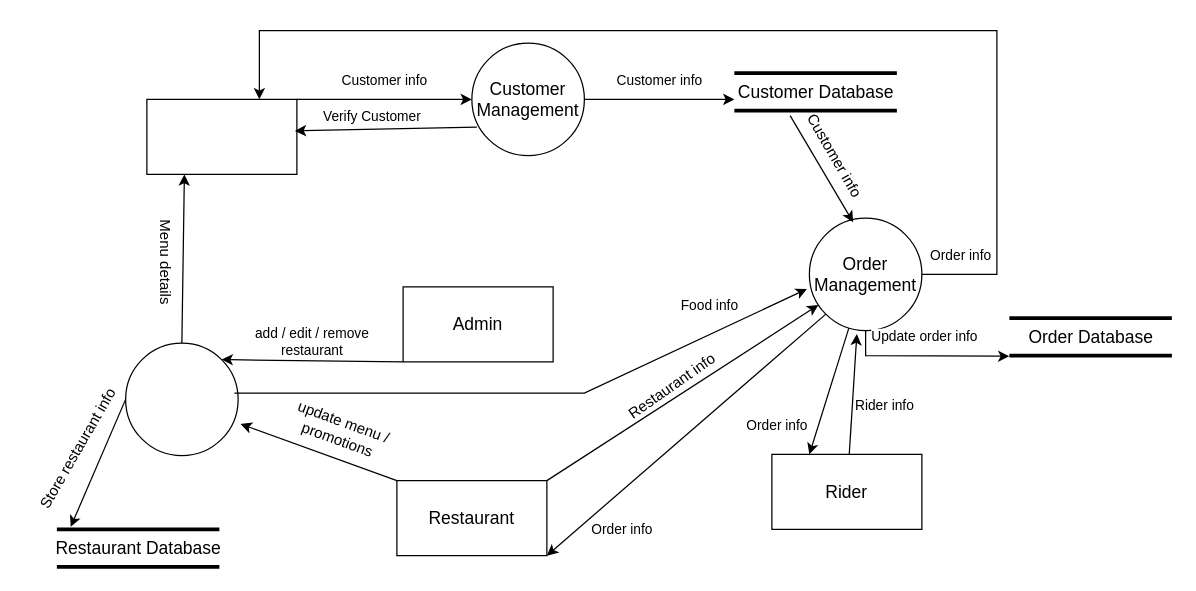
This 1196x591 diagram has some shape labels left out. The shapes that lost their labels are listed below. From the top down, each one's centre as x and y in pixels, then its label:
point (221, 136): Customer
point (181, 399): Restaurant Management
